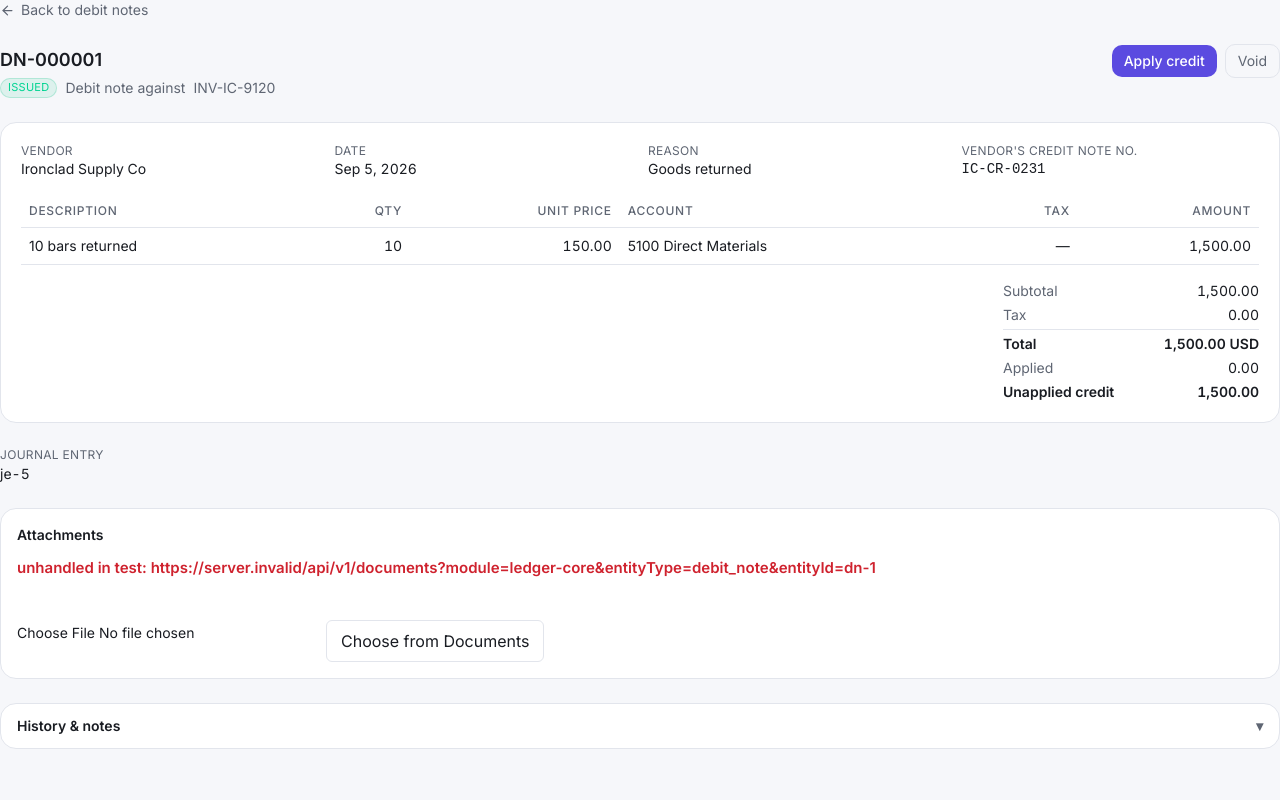
it: DebitNoteDetailPage › apply dialog defaults the amount to min(unapplied, due) and posts it
Expected: the text "IC-CR-0231" is shown, [962,161,1046,177]
Click the button "Apply credit" at x=1164, y=61, box [1112,45,1217,77]
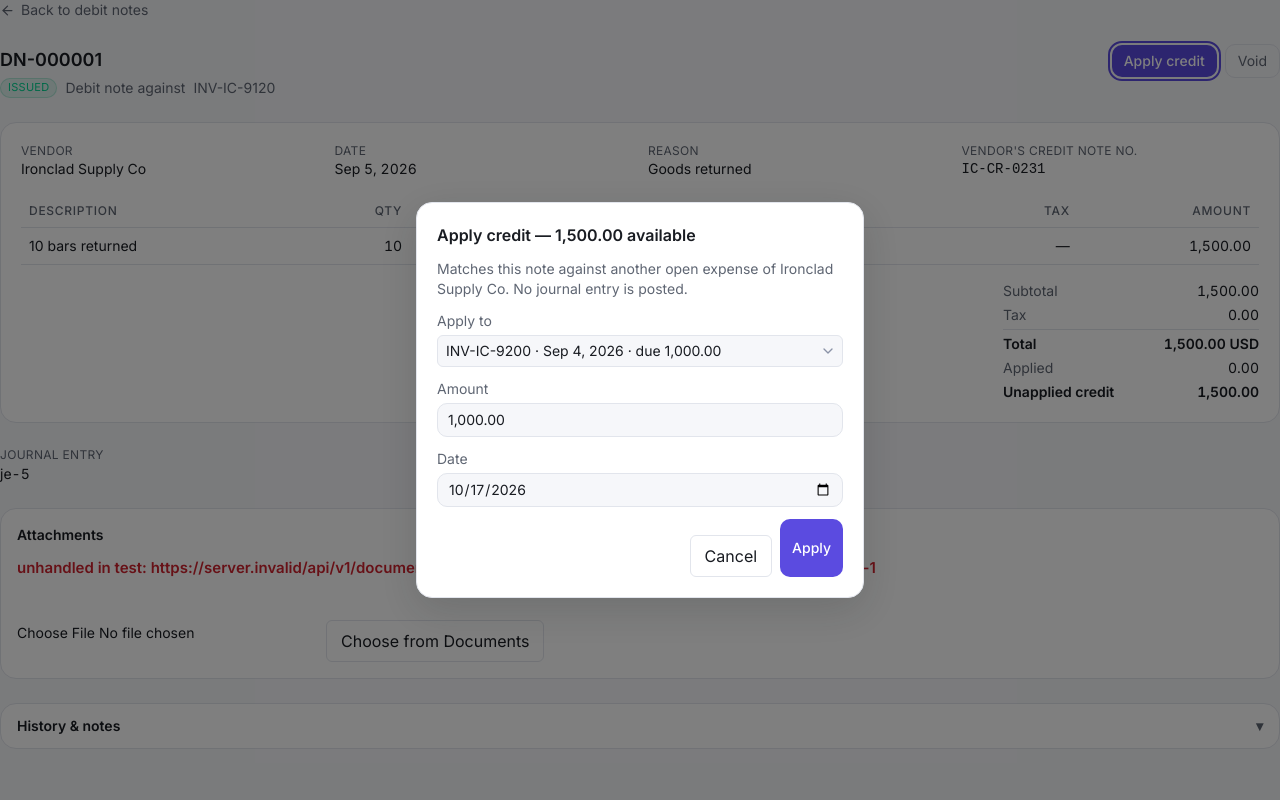
Result: the field named "Amount to apply" holds "1,000.00" at [437,403,843,437]
Click the button "Apply" at x=812, y=548, box [780,519,843,577]
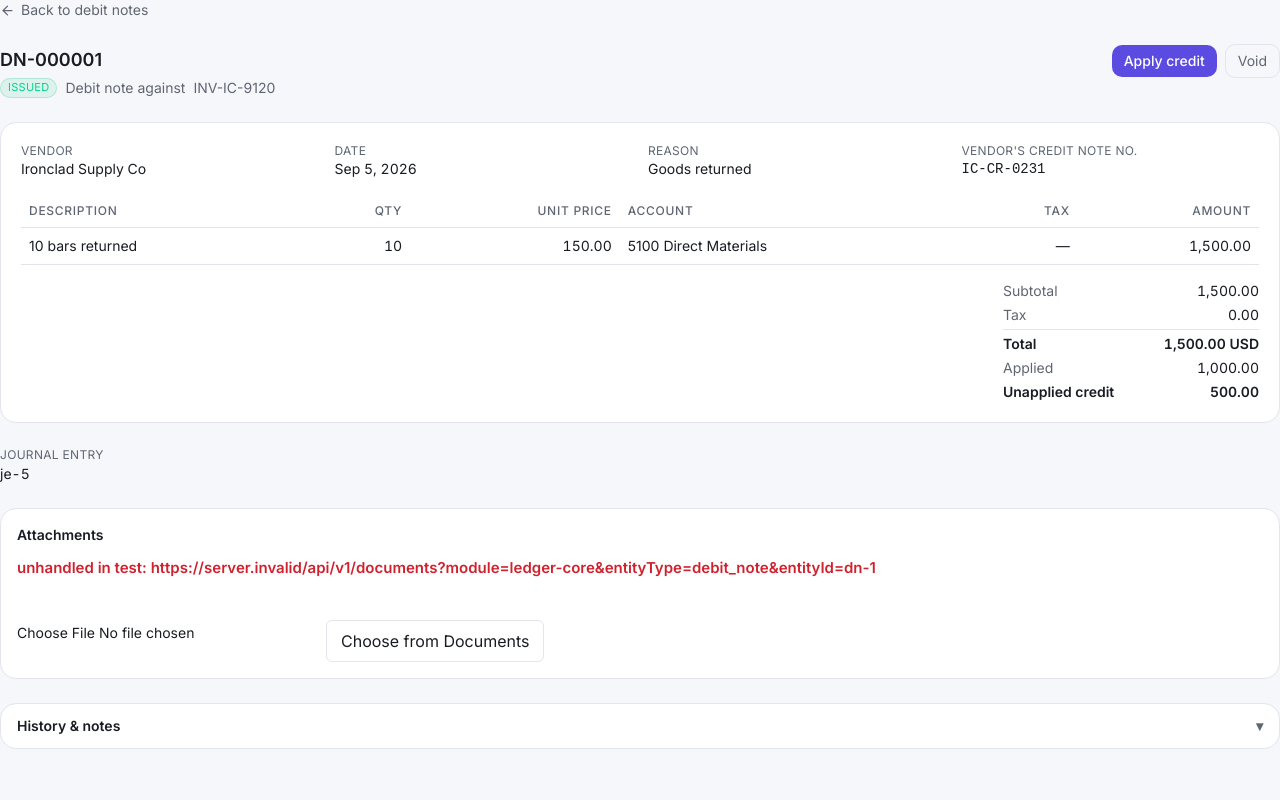
Result: the text with test id "unapplied" reads "500.00" at [1210,383,1259,400]
